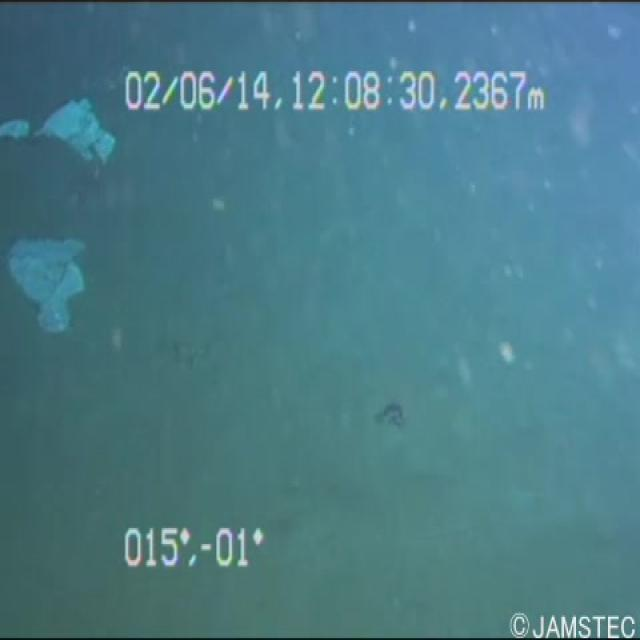plastic: (3, 210, 89, 348), (0, 96, 120, 178)
